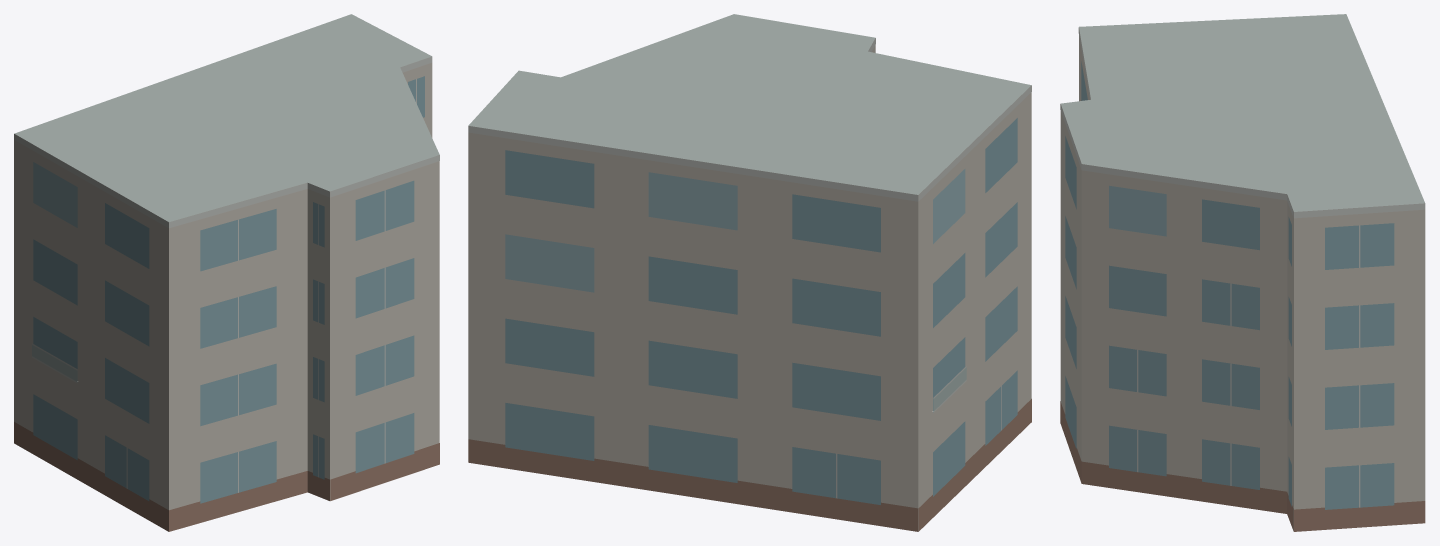
Rendered from survey-upis-33040154.glb.
The picture shows the model from 3 angles, left to right: view 1: azimuth 30°, elevation 25°; view 2: azimuth 150°, elevation 25°; view 3: azimuth 270°, elevation 25°; orthographic projection. The views are drawn at different scales.
Visible parts, largest first — view 1: survey-upis-33040154.tmp; view 2: survey-upis-33040154.tmp; view 3: survey-upis-33040154.tmp.
Boxes of the visible parts, x1,y1,x2,y2 form: survey-upis-33040154.tmp: (14,14,439,531); survey-upis-33040154.tmp: (468,14,1031,531); survey-upis-33040154.tmp: (1060,14,1425,531).
Size of the model in its own units: 16.34 by 12.3 by 12.72.
